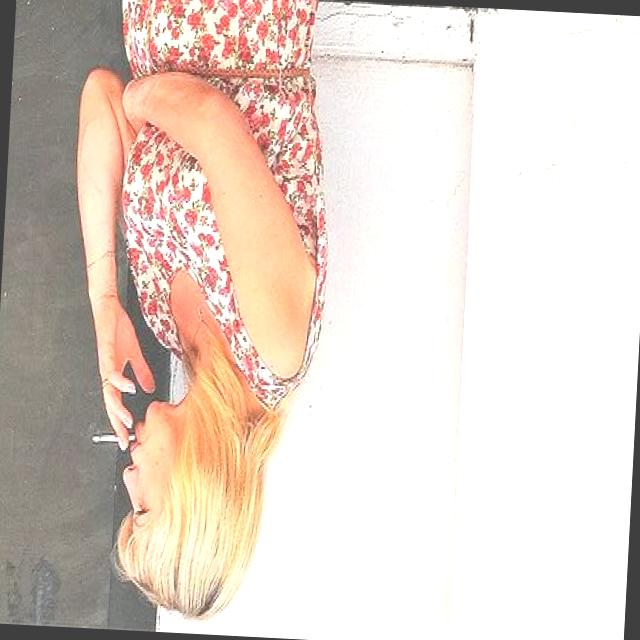cigarette: (89, 428, 146, 451)
